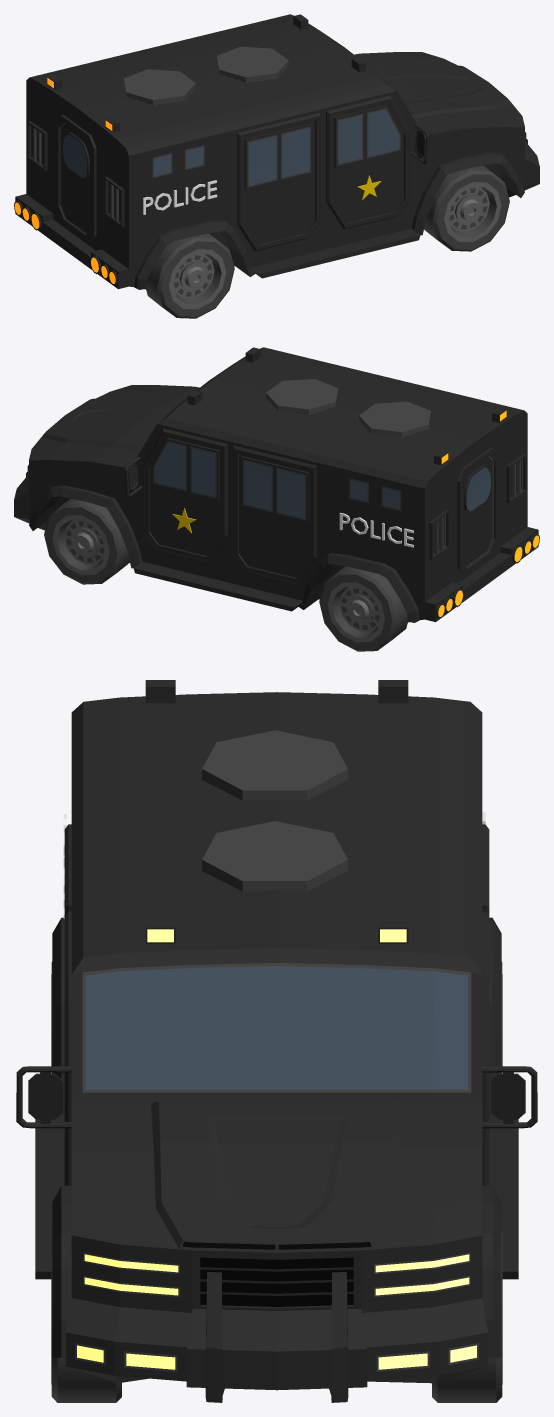
Rendered from military_vehicle_3.glb.
3 views of the same model, one above another, from view 1: azimuth 30°, elevation 25°; view 2: azimuth 150°, elevation 25°; view 3: azimuth 270°, elevation 25° (orthographic). The views are drawn at different scales.
Parts seen in each view (by area): view 1: Military Vehicle_3; view 2: Military Vehicle_3; view 3: Military Vehicle_3.
Part boxes in pixels (box(x1,y1,x2,y2)): Military Vehicle_3: box(14, 14, 539, 318); Military Vehicle_3: box(14, 347, 539, 651); Military Vehicle_3: box(16, 680, 537, 1402).
Bounding box in the file's own units: 6.47 × 2.69 × 3.28.
Materials: 2 (2 with a texture image).
